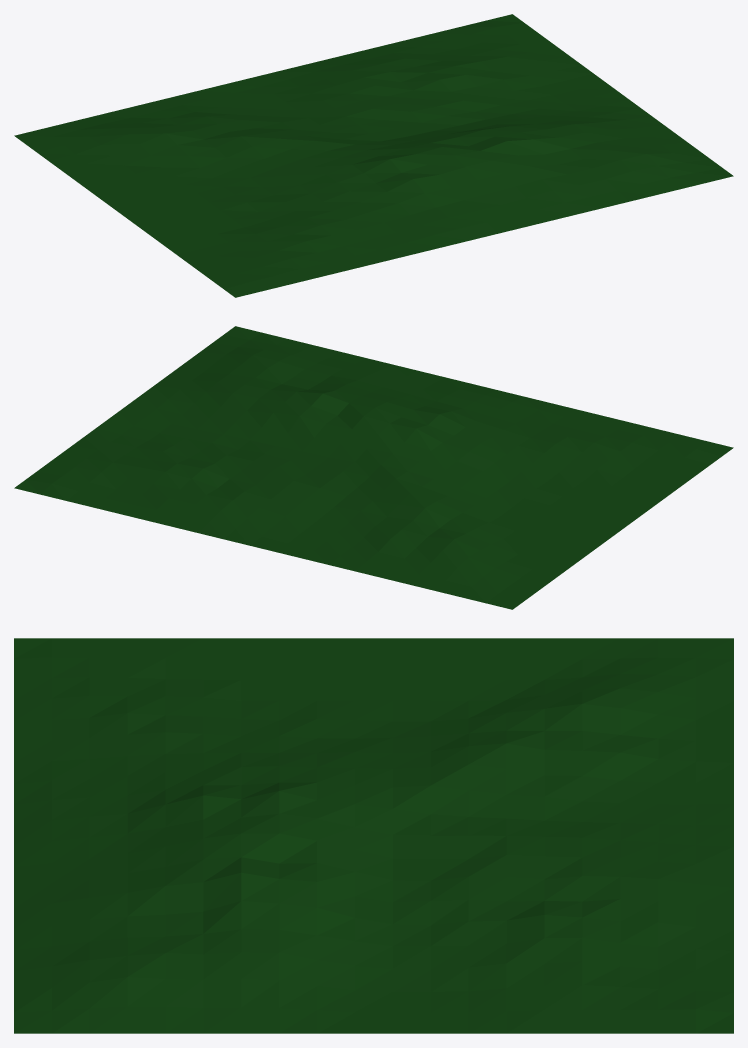
Rendered from floor.obj.
3 views of the same model, one above another, from view 1: azimuth 30°, elevation 25°; view 2: azimuth 150°, elevation 25°; view 3: azimuth 270°, elevation 25° (orthographic). The views are drawn at different scales.
Visible parts, largest first — view 1: floor; view 2: floor; view 3: floor.
Boxes of the visible parts, <box> form: floor: <box>14,14,733,297</box>; floor: <box>14,326,733,609</box>; floor: <box>14,638,733,1033</box>.
Size of the model in its own units: 1.3 by 0.0554 by 1.
